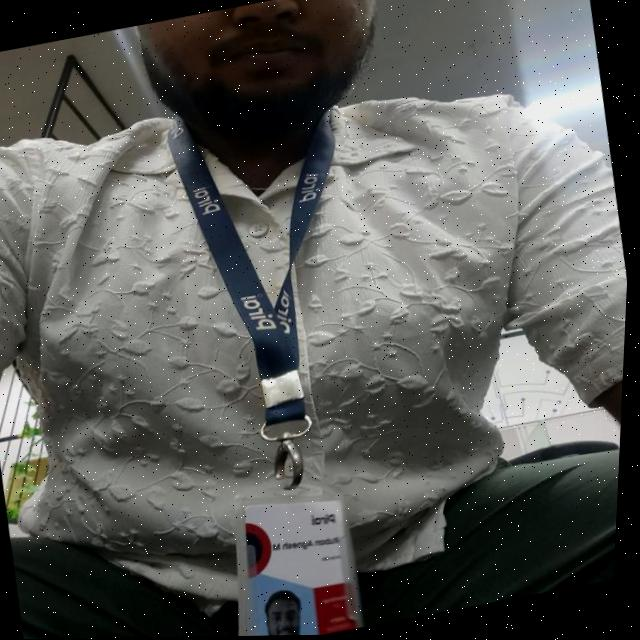id_card: (120, 69, 426, 638)
